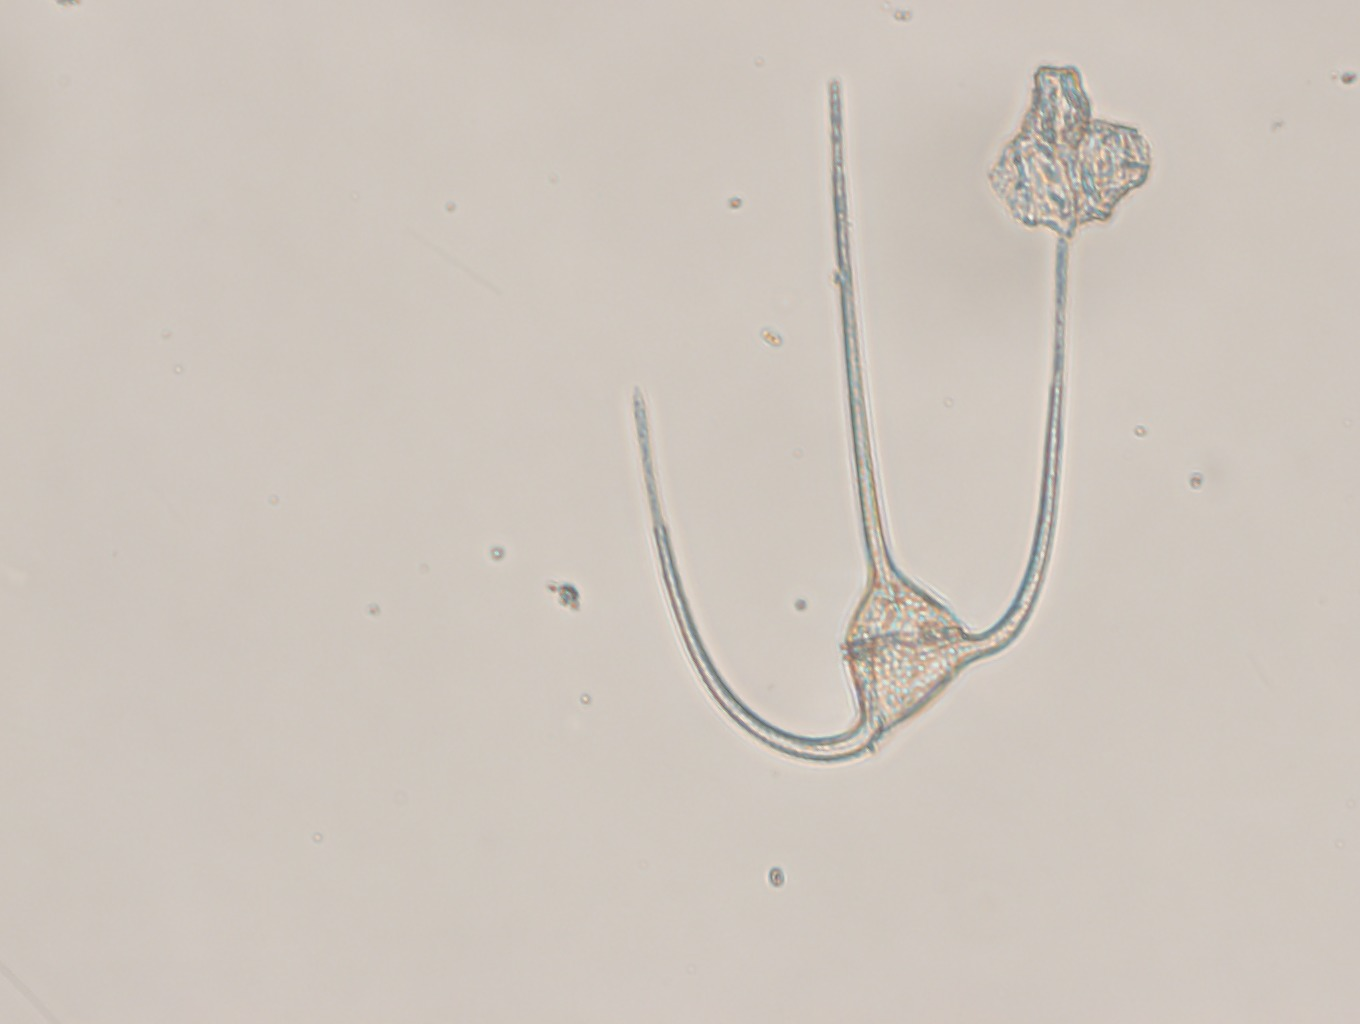ceratium trichoceros: (584, 60, 1089, 774)
